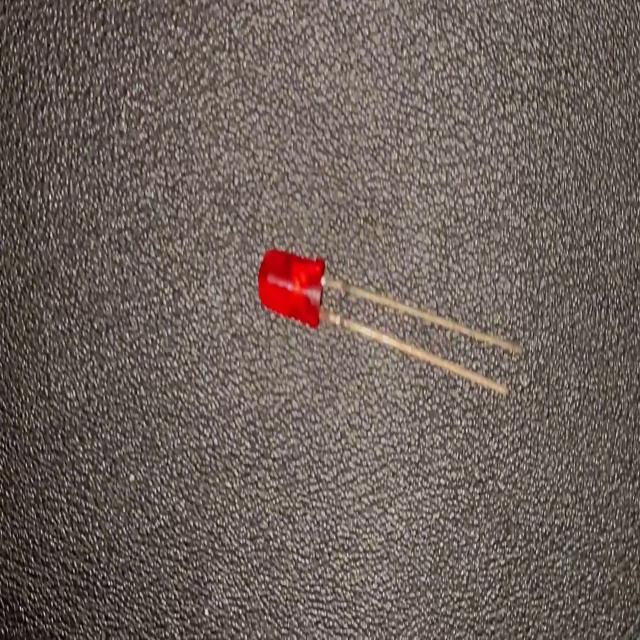LED: (256, 246, 524, 403)
